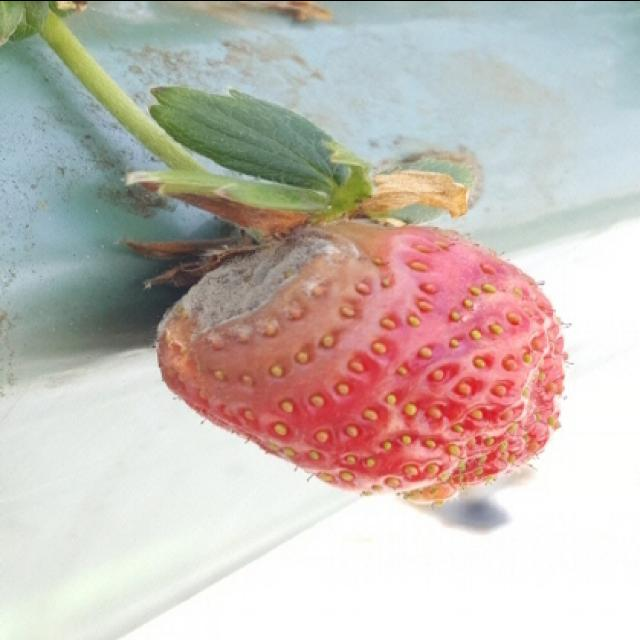Gray Mold: (144, 216, 363, 357)
